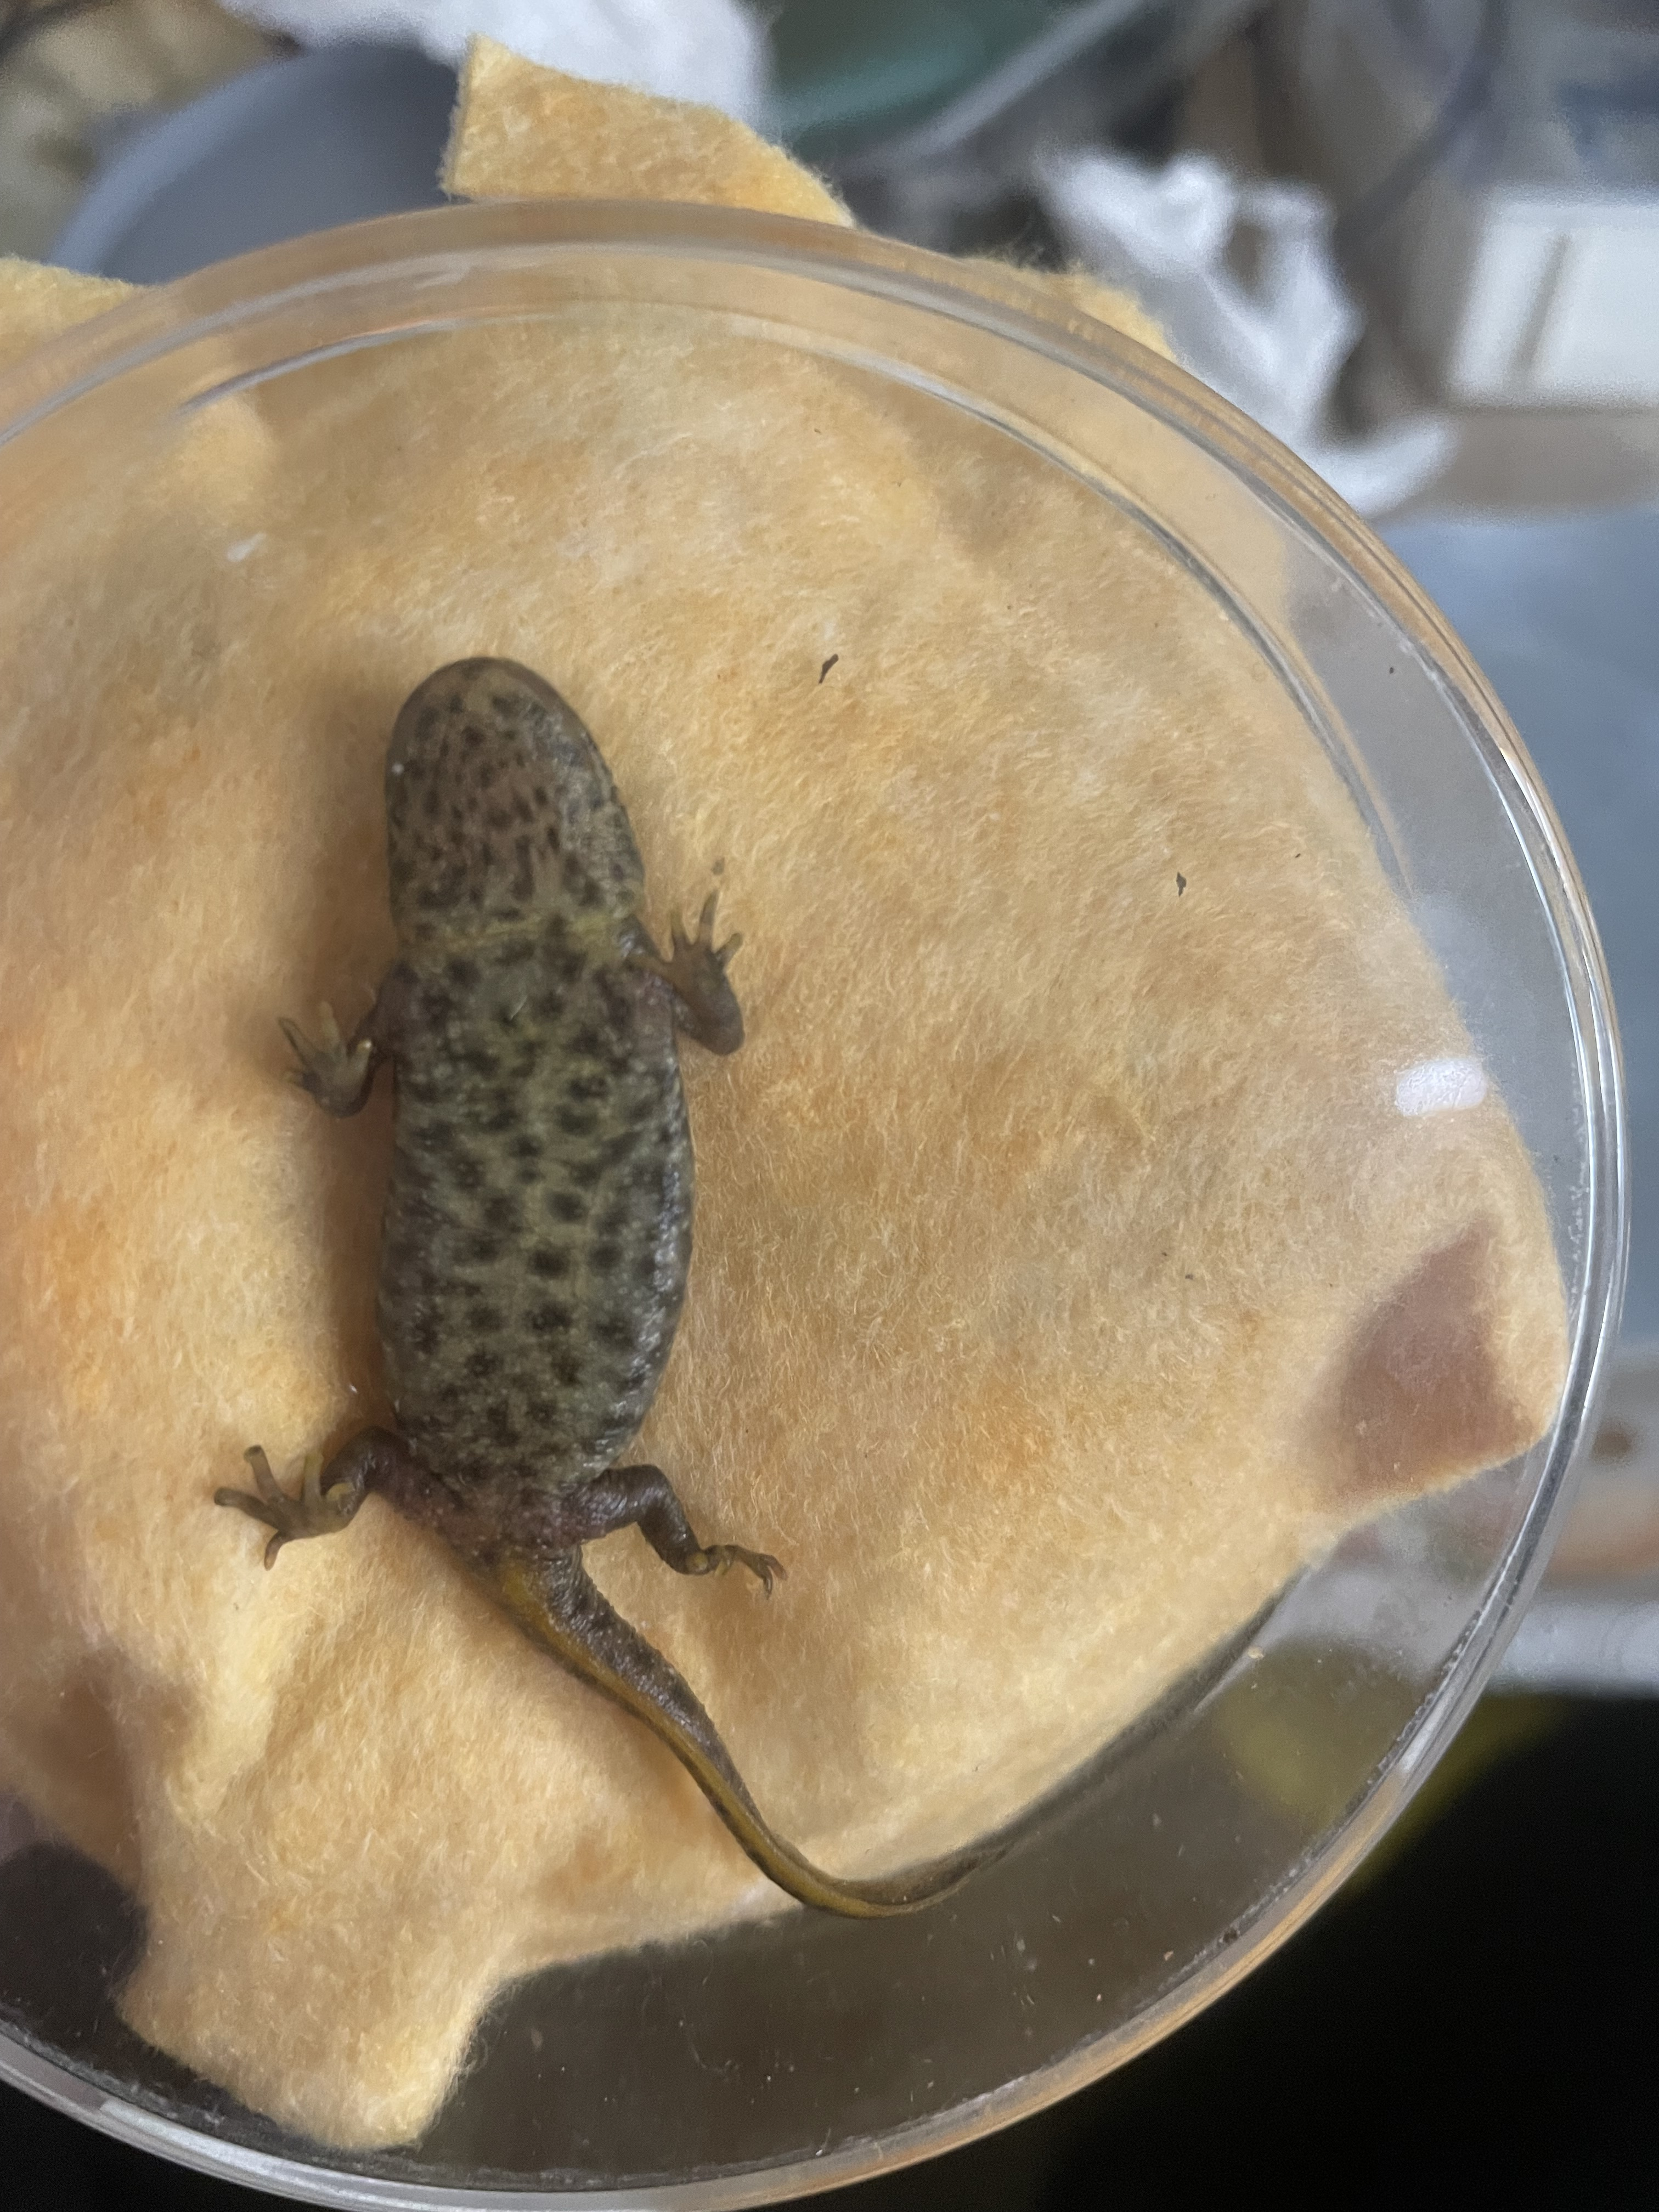newt_ribbed: (375, 1019, 699, 1472)
